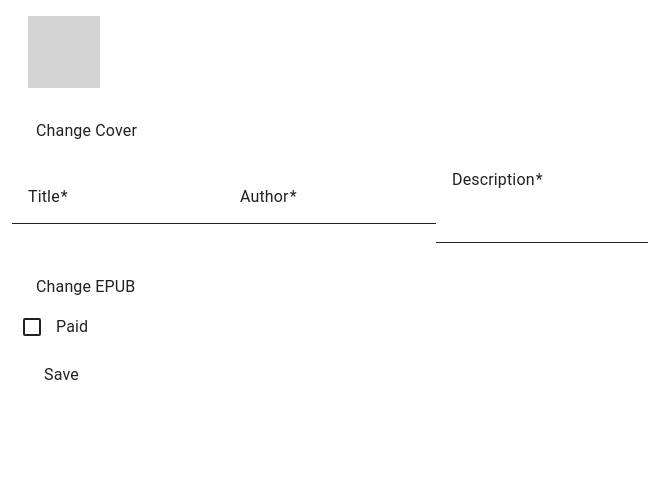
Test: AddBookFormComponent › should toggle price field
This screenshot has width=665, height=477.
Step 1. Click the checkbox labelled "Paid" → (70, 327), box [52,315,88,339]
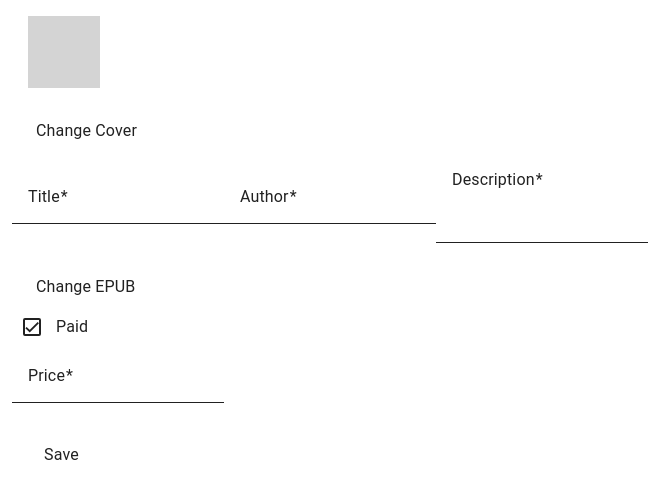
Check: the number field named "price" is shown, box [28,371,208,395]
